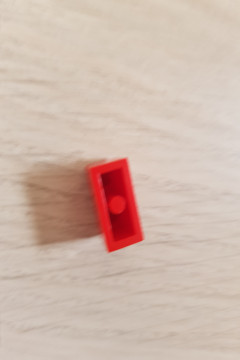1x2 red: (88, 156, 147, 253)
